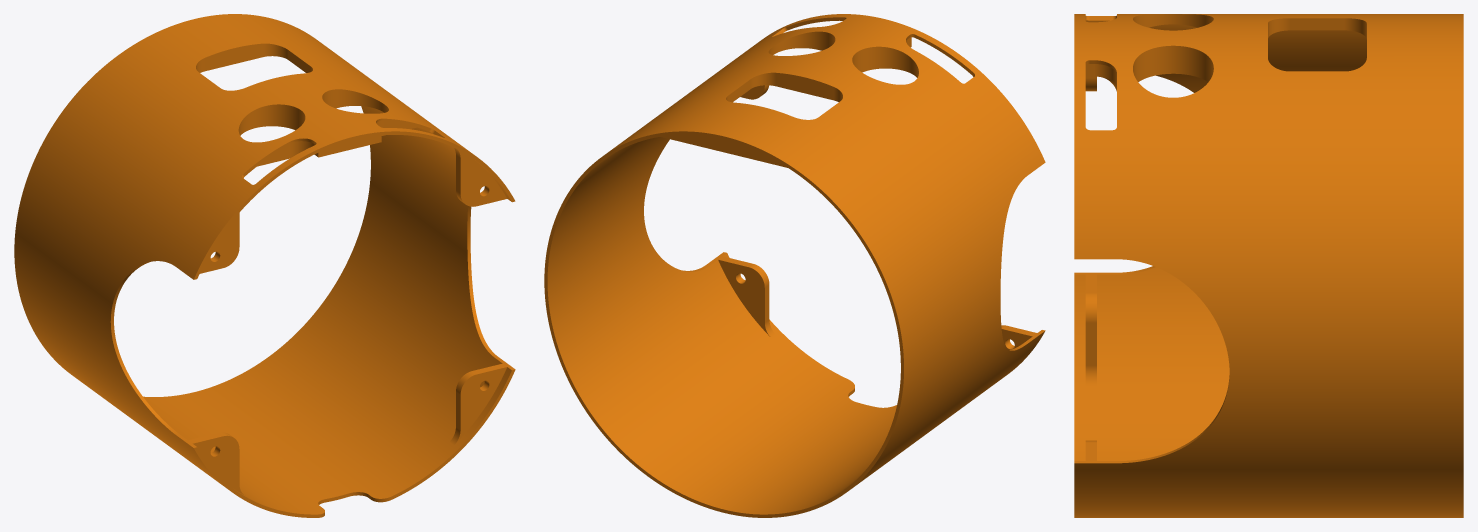
Rendered from 1mmCarcaza.obj.
The picture shows the model from 3 angles, left to right: view 1: azimuth 30°, elevation 25°; view 2: azimuth 150°, elevation 25°; view 3: azimuth 270°, elevation 25°; orthographic projection. The views are drawn at different scales.
Parts seen in each view (by area): view 1: Sólido1; view 2: Sólido1; view 3: Sólido1.
Boxes of the visible parts, x1=… form: Sólido1: x1=14, y1=14, x2=515, y2=517; Sólido1: x1=544, y1=14, x2=1045, y2=517; Sólido1: x1=1074, y1=14, x2=1463, y2=517.
Bounding box in the file's own units: 112 × 112 × 86.5.
